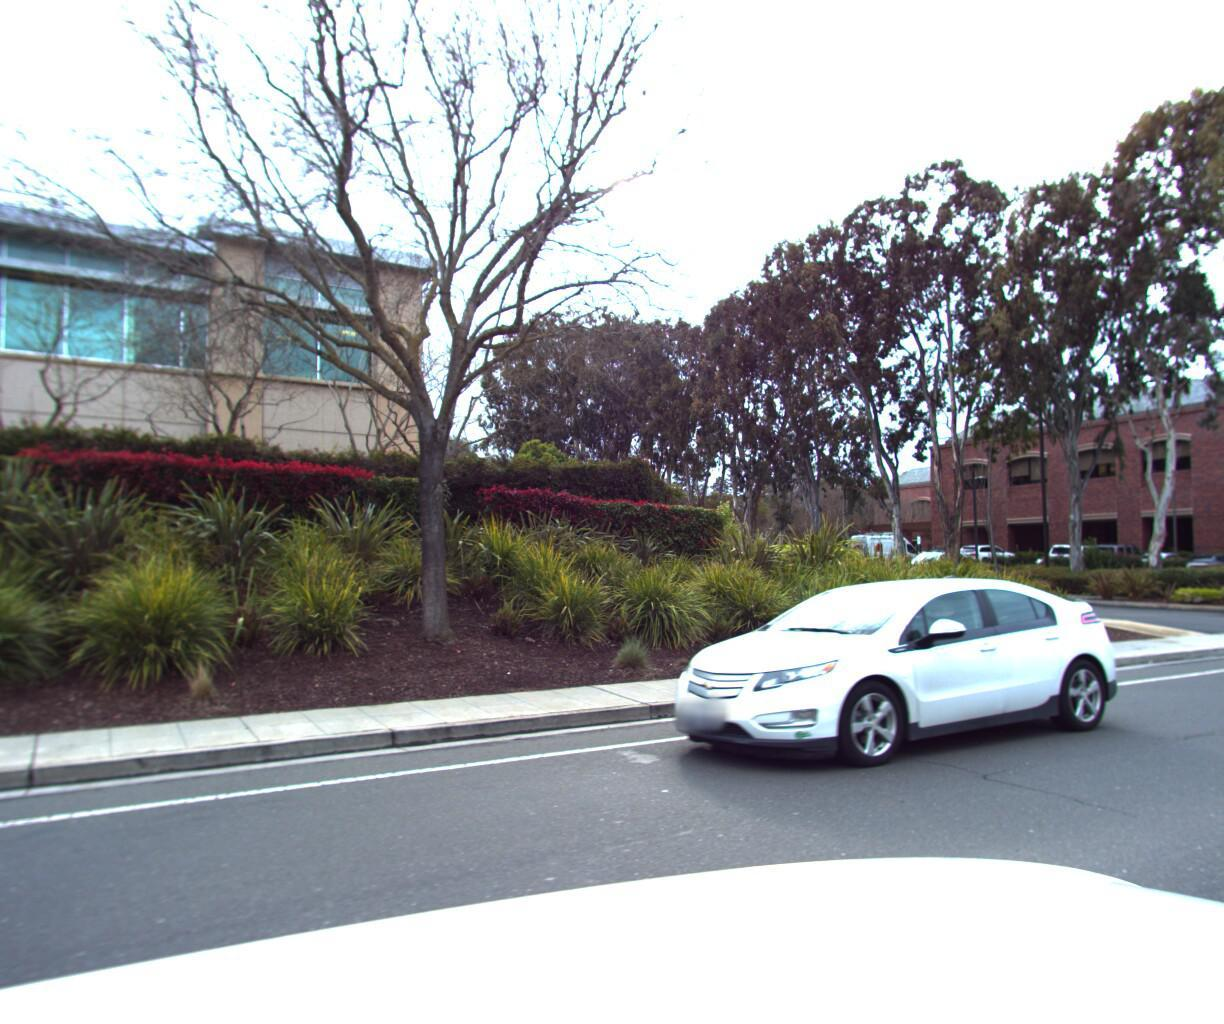car: (631, 574, 1133, 789)
